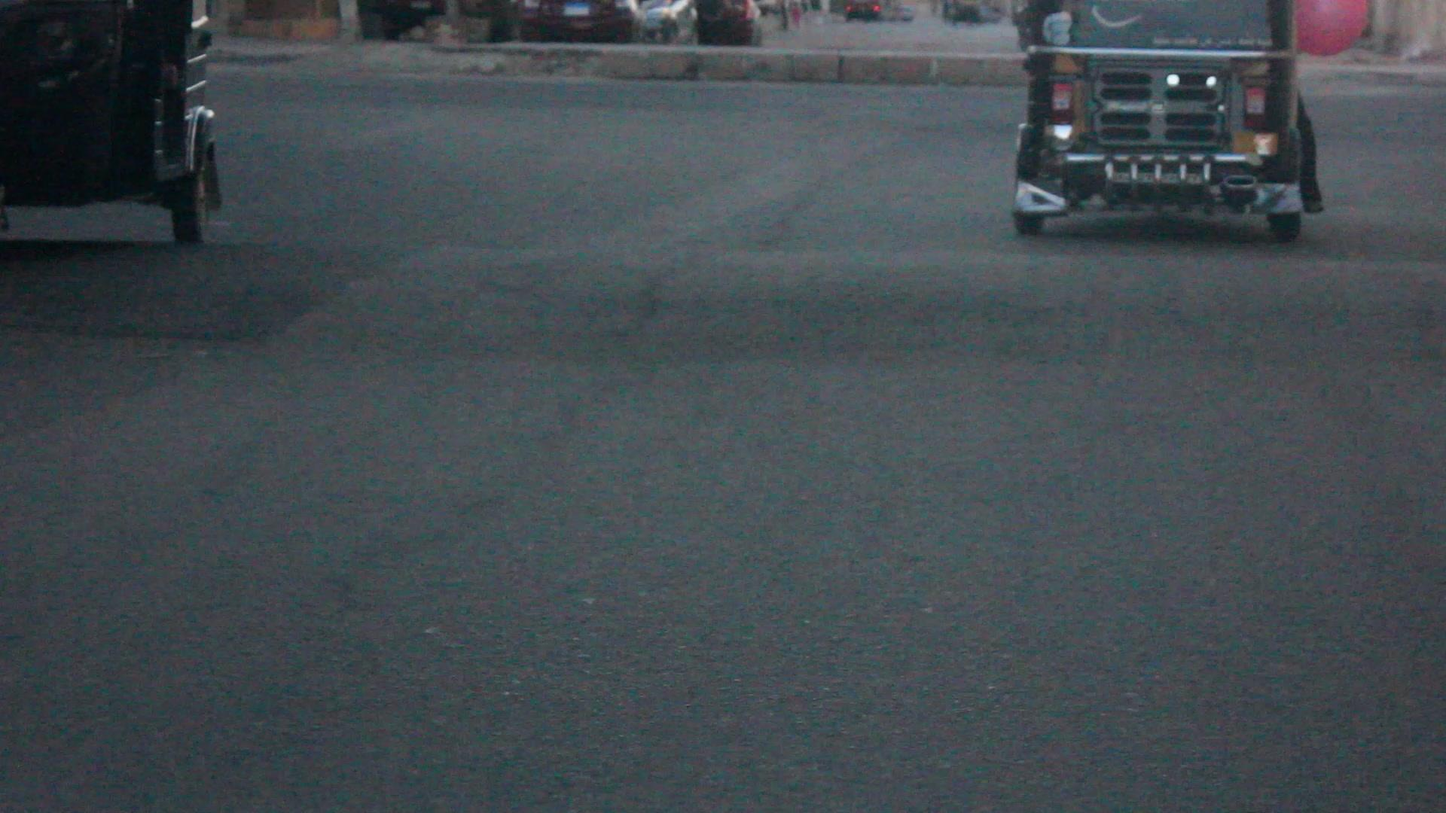Bump: (0, 240, 1429, 378)
